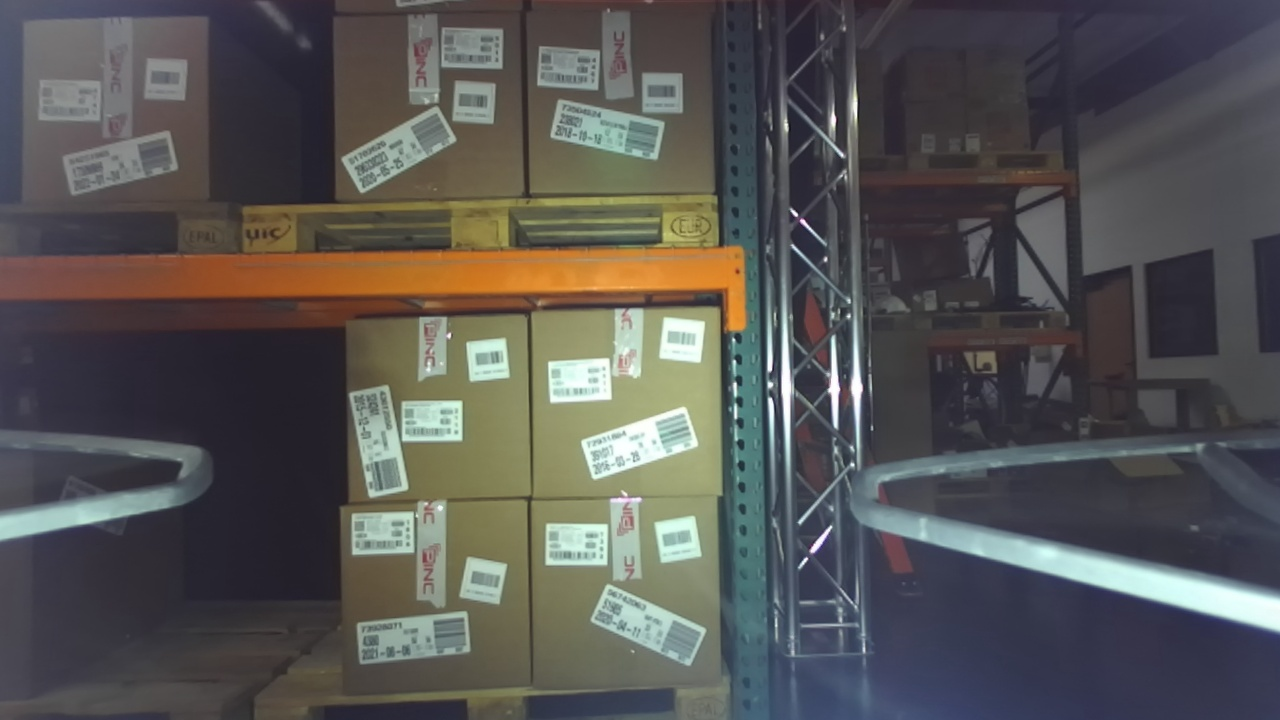box: (486, 1, 743, 216), (515, 483, 751, 717), (517, 275, 746, 514), (312, 489, 559, 709), (309, 3, 552, 220), (319, 301, 554, 523), (10, 1, 234, 221)
